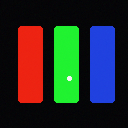0 point: (67, 76, 71, 80)
